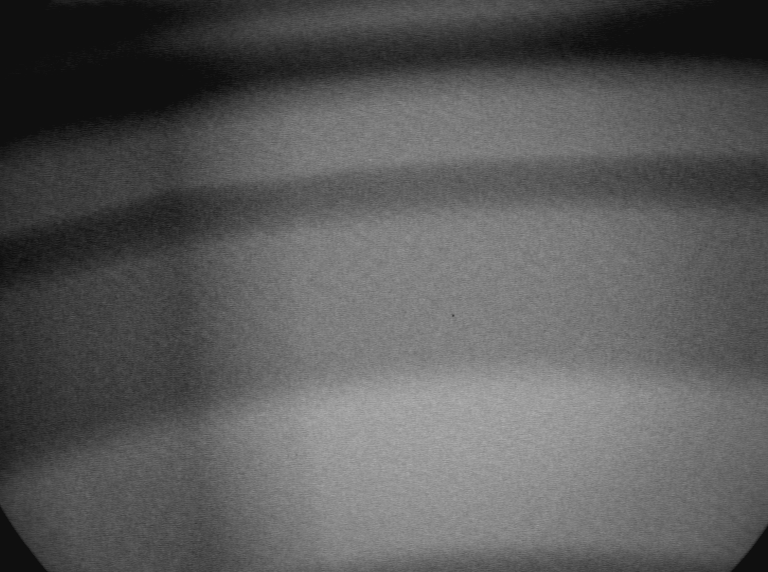defect: (80, 29, 299, 566)
